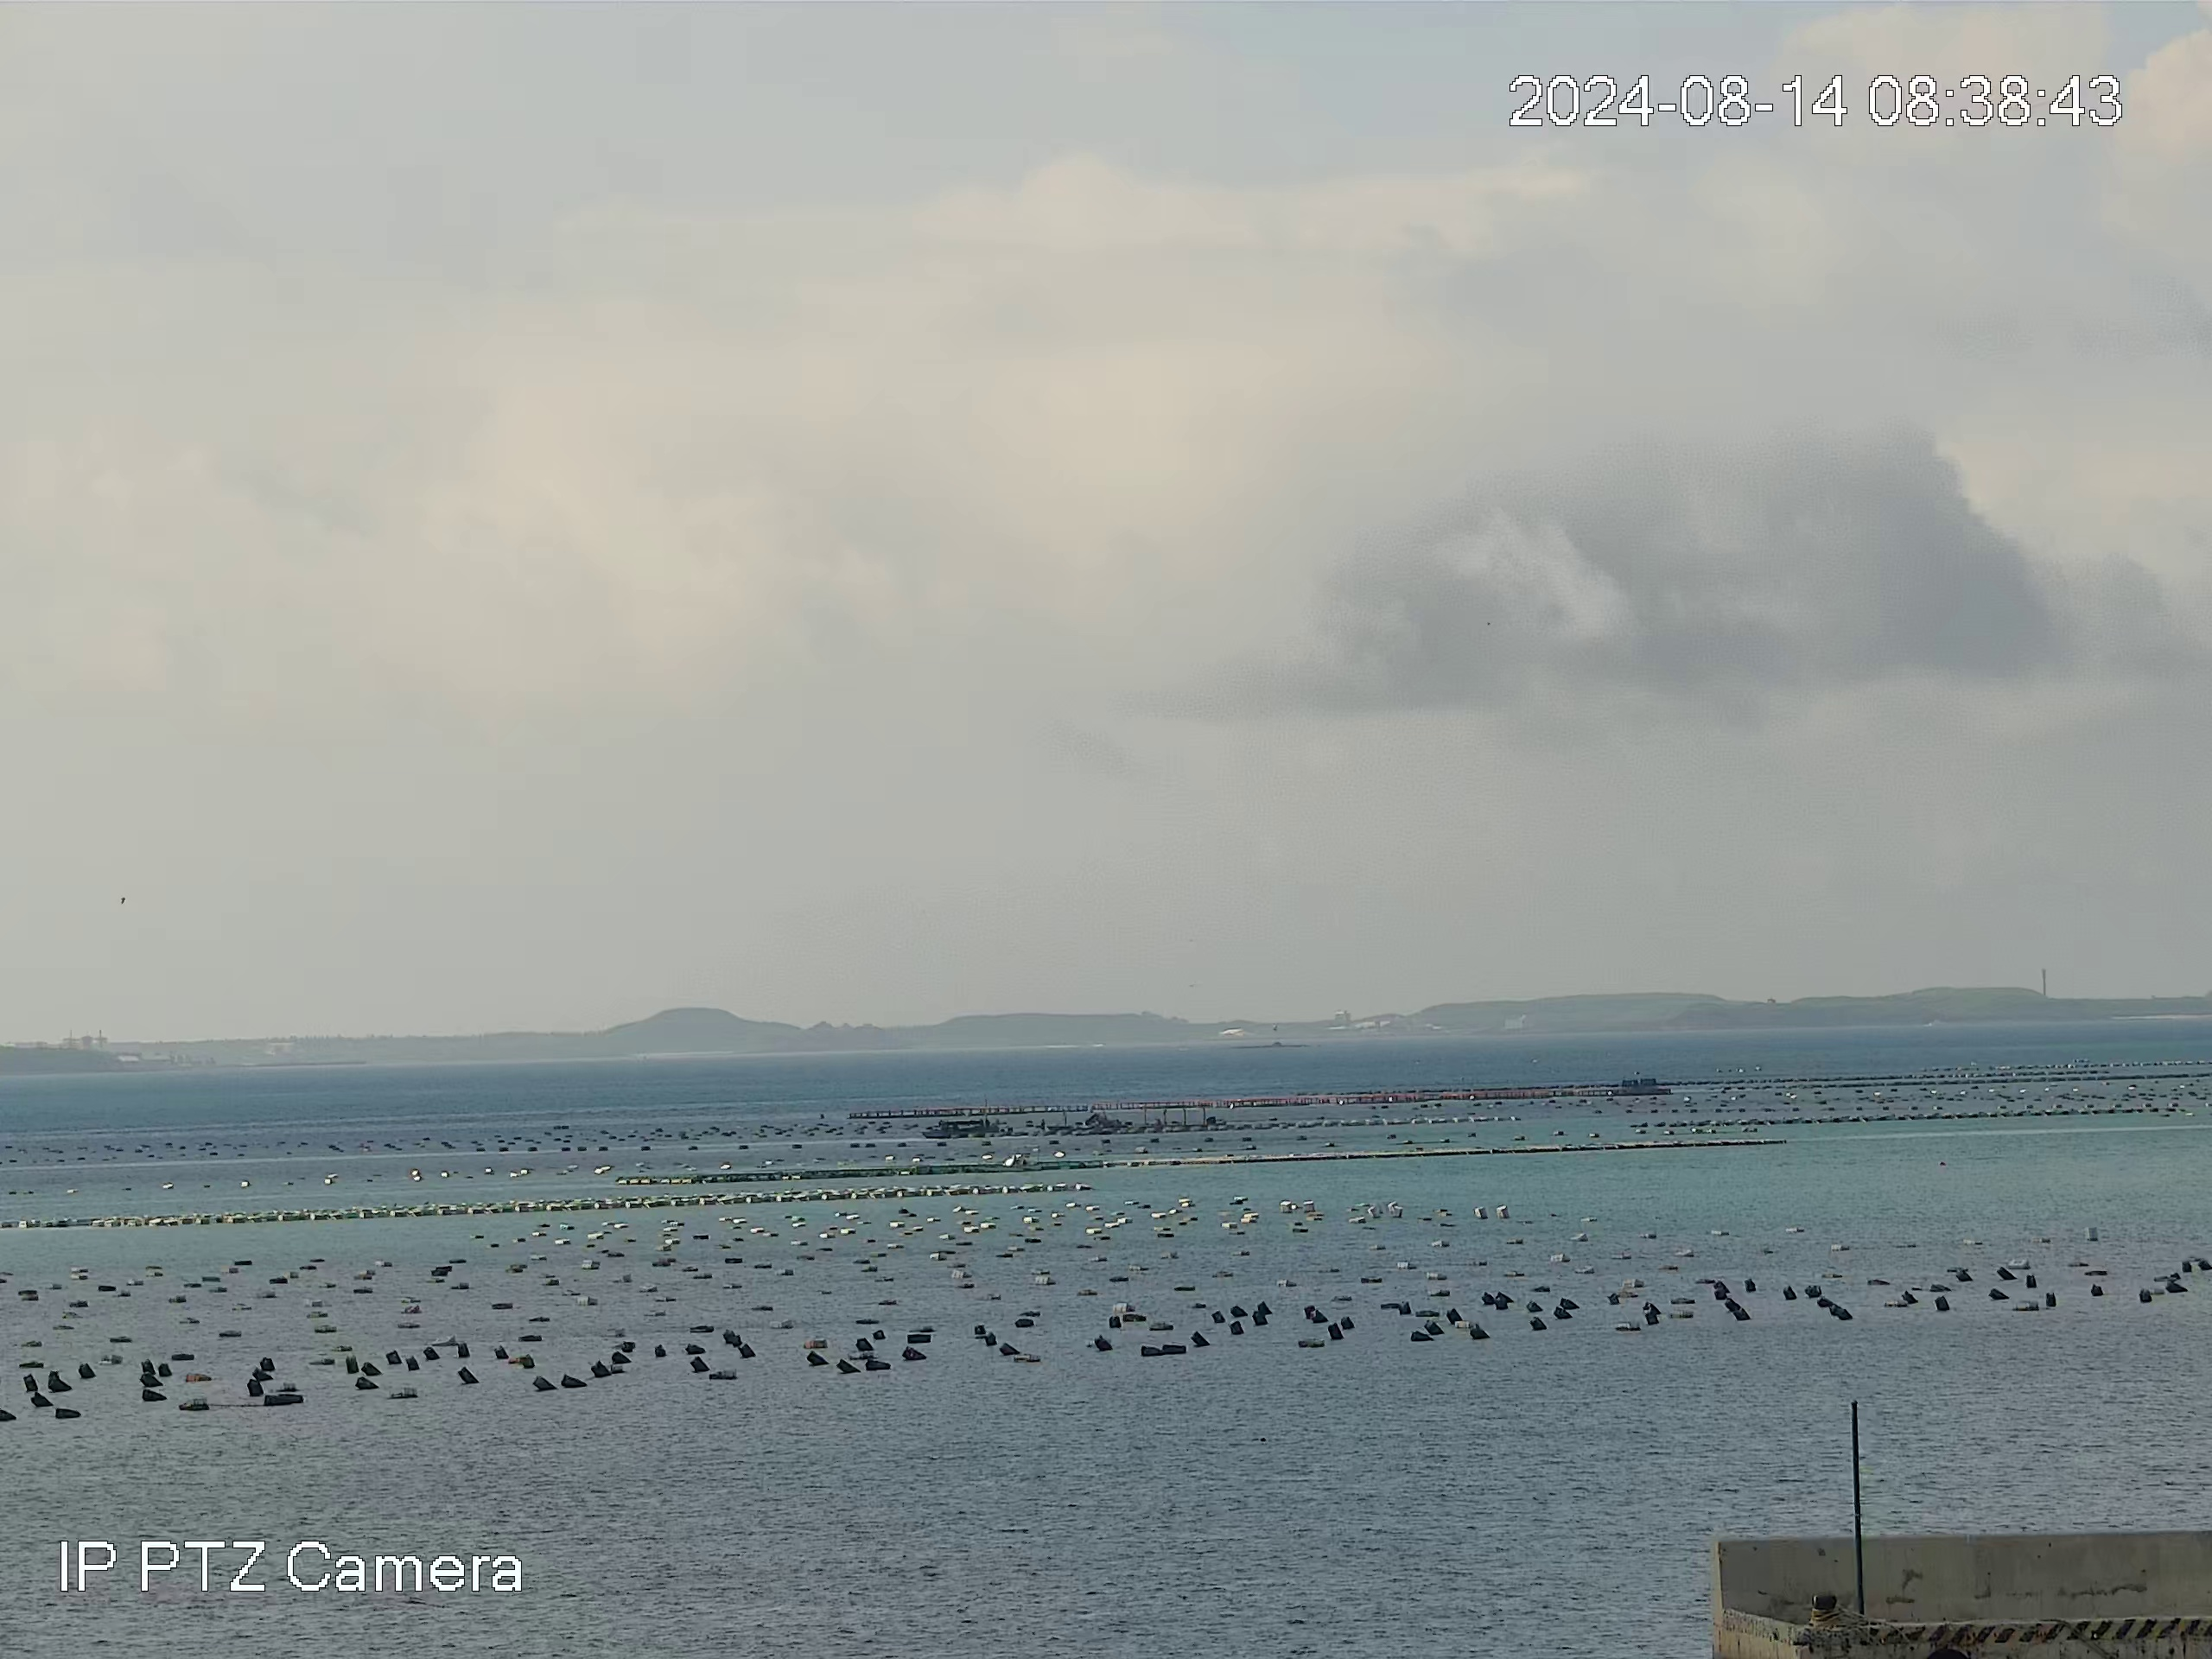boat: (930, 1117, 995, 1140)
